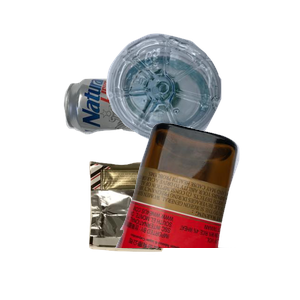glass: (113, 120, 300, 300)
metal: (61, 75, 231, 202)
plastic: (104, 31, 300, 168)
trash: (86, 158, 242, 300)
